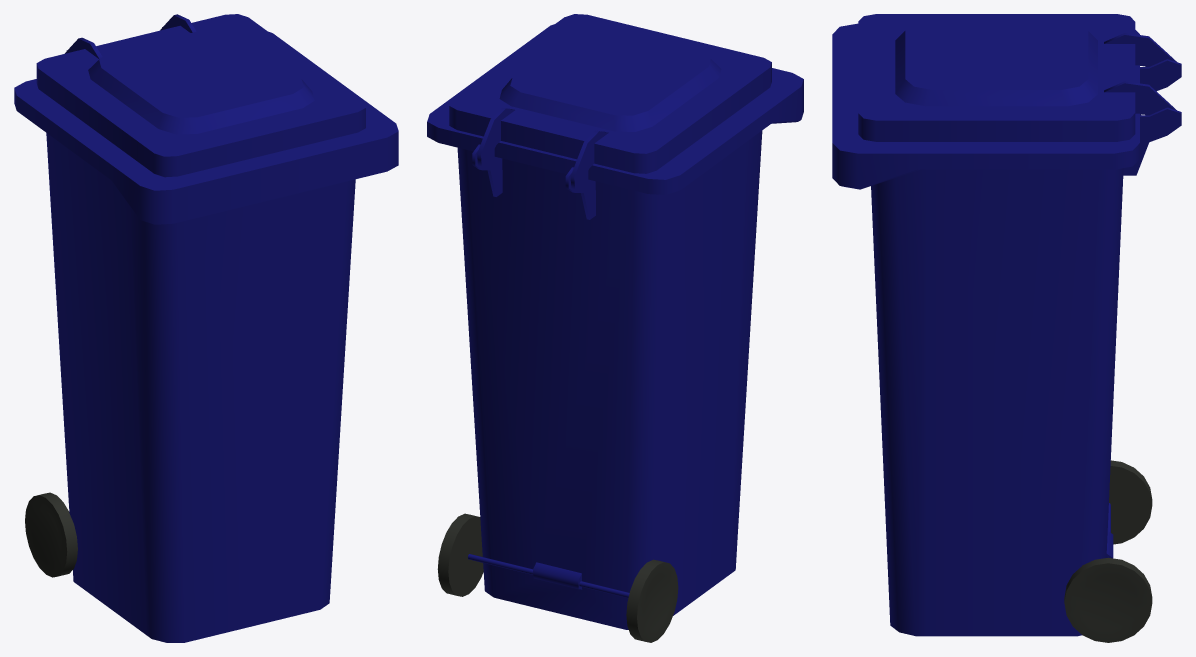
The model's file is uploads_files_2243287_Trashbin.fbx.
3 renders of one model, left to right at view 1: azimuth 30°, elevation 25°; view 2: azimuth 150°, elevation 25°; view 3: azimuth 270°, elevation 25°, orthographic. The views are drawn at different scales.
Parts seen in each view (by area): view 1: Trashbin, TrashbinLid, TrashbinWheels; view 2: Trashbin, TrashbinLid, TrashbinWheels; view 3: Trashbin, TrashbinLid, TrashbinWheels.
Part boxes in pixels (x1,y1,x2,y2): Trashbin: [14, 27, 398, 642]; TrashbinLid: [36, 14, 365, 177]; TrashbinWheels: [25, 492, 77, 577]; Trashbin: [427, 24, 803, 629]; TrashbinLid: [449, 14, 771, 188]; TrashbinWheels: [437, 513, 678, 642]; Trashbin: [832, 23, 1181, 636]; TrashbinLid: [858, 14, 1176, 141]; TrashbinWheels: [1064, 460, 1152, 642].
Size of the model in its own units: 64.3 by 124 by 72.97.
